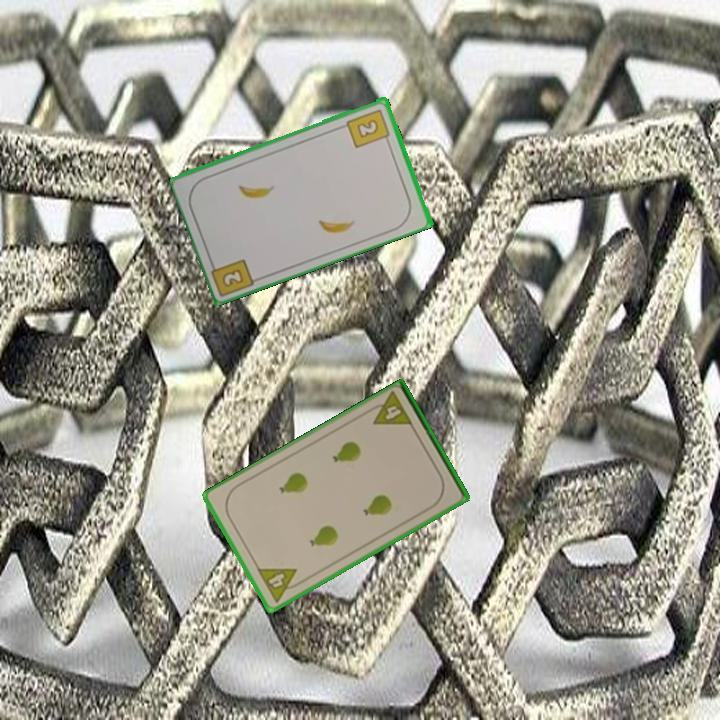2b: (343, 105, 393, 150), (218, 265, 247, 290)
4p: (253, 564, 306, 605), (364, 389, 416, 429)
